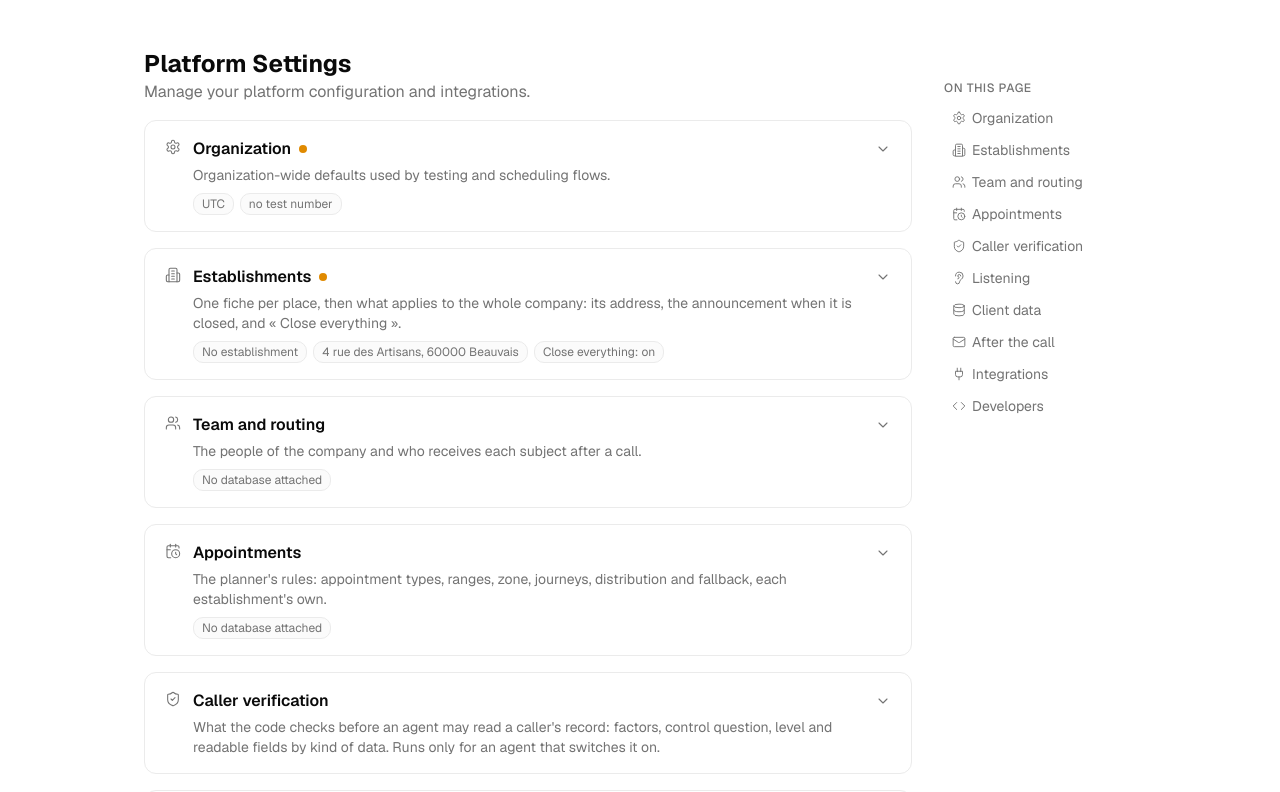
[.mark] the Platform Settings page in themes › [agents-specialises, lot 11] « Close everything » is the old forced state, and the takeover opens its trial run
The width and height of the screenshot is (1280, 792).
Click the button that starts with "Establishments" at (528, 314), box top-left (145, 249), bottom-right (911, 379)
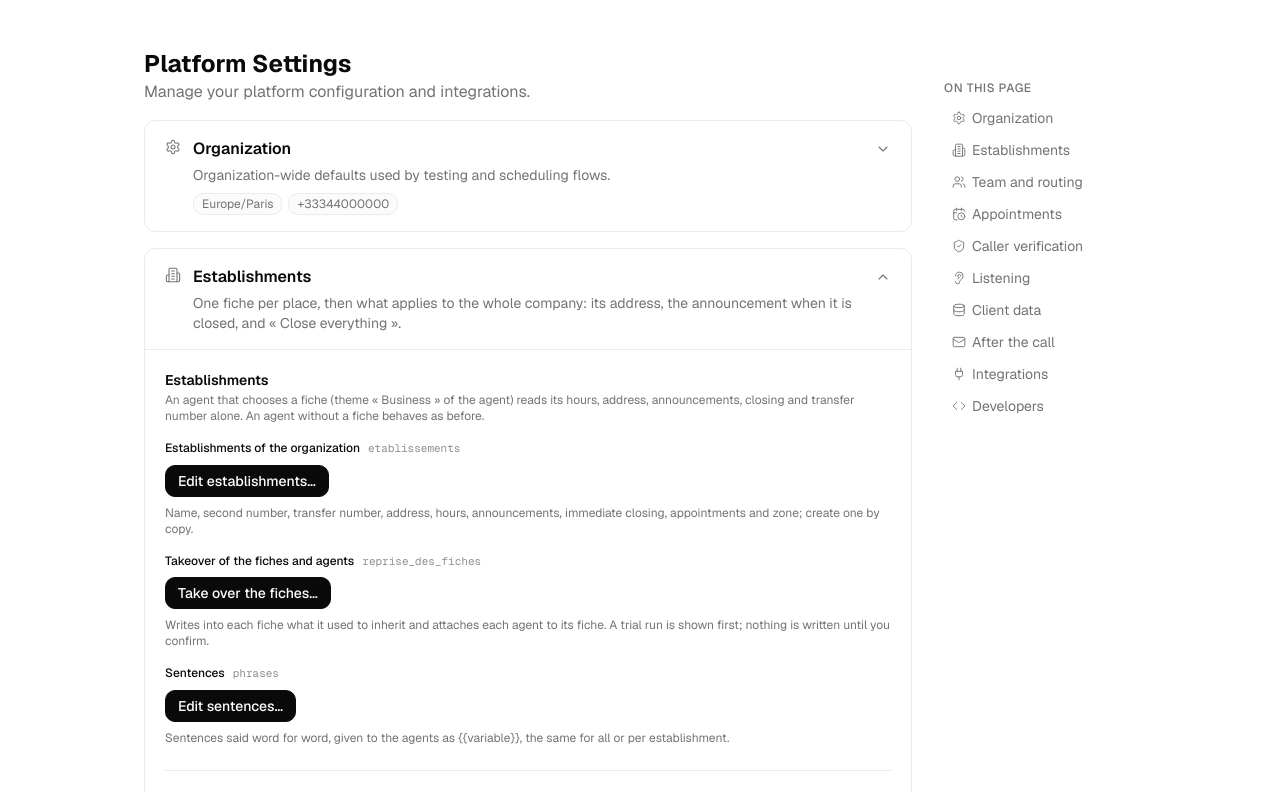
Result: the element that starts with "Takeover of the fiches and agents" is shown at top-left (165, 552), bottom-right (891, 649)
Click the button with test id "ouvrir-reprise" at (248, 593), box top-left (165, 577), bottom-right (331, 609)
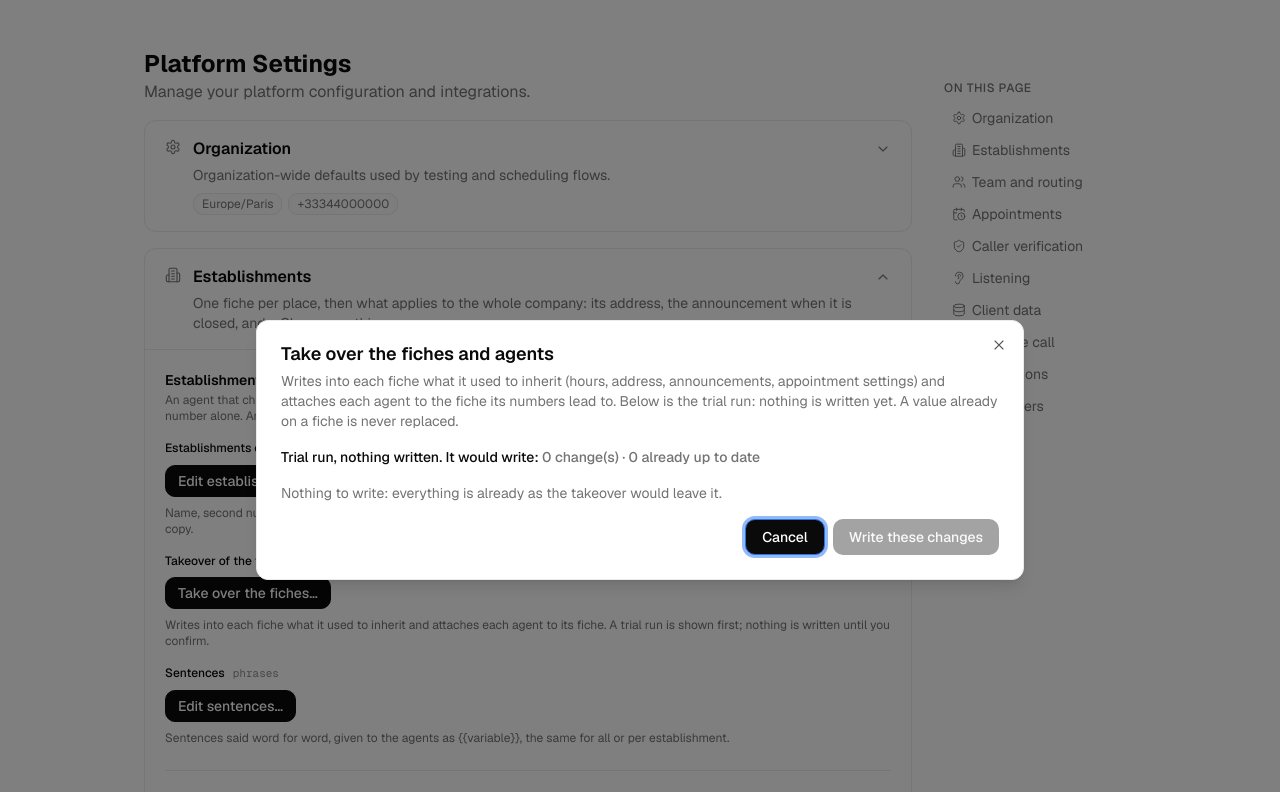
Result: the element with test id "etat-reprise" shows "Trial run, nothing written" at top-left (281, 448), bottom-right (539, 466)
